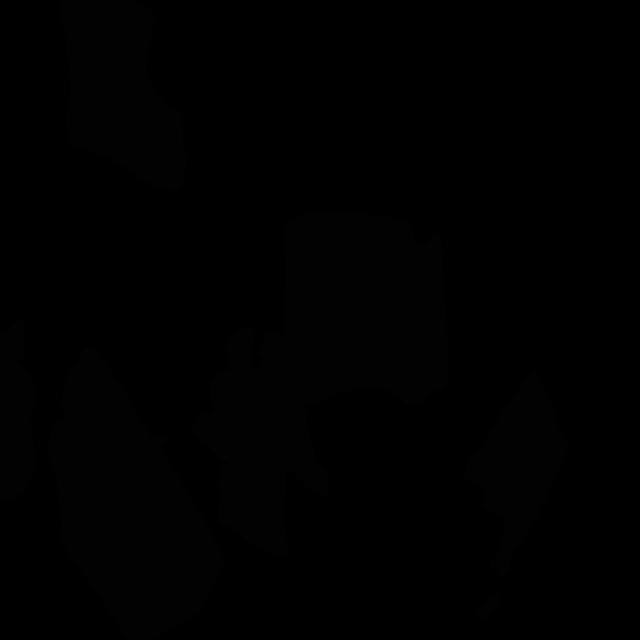cardboard: (47, 345, 224, 640), (281, 212, 449, 406), (192, 328, 330, 557), (58, 0, 189, 192), (462, 369, 569, 580), (0, 319, 34, 503), (474, 593, 500, 621)
